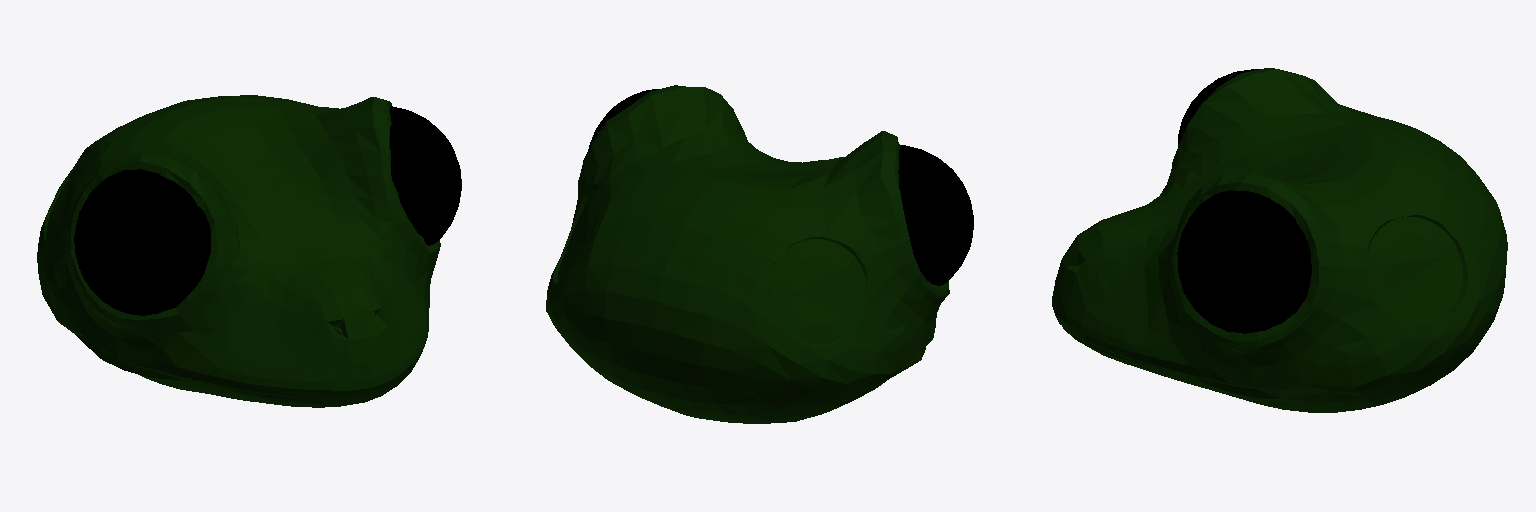
File: PlayerHead.obj
3 renders of one model, left to right at view 1: azimuth 30°, elevation 25°; view 2: azimuth 150°, elevation 25°; view 3: azimuth 270°, elevation 25°, orthographic.
Parts seen in each view (by area): view 1: FrogHead.002, Sphere.018_Sphere.020, Sphere.019_Sphere.020; view 2: FrogHead.002, Sphere.018_Sphere.020; view 3: FrogHead.002, Sphere.019_Sphere.020, Sphere.018_Sphere.020.
Boxes of the visible parts, box(x1,y1,x2,y2) form: FrogHead.002: box(37, 95, 440, 407); Sphere.018_Sphere.020: box(74, 169, 210, 315); Sphere.019_Sphere.020: box(390, 106, 461, 245); FrogHead.002: box(546, 85, 949, 423); Sphere.018_Sphere.020: box(898, 145, 973, 285); FrogHead.002: box(1052, 68, 1507, 412); Sphere.019_Sphere.020: box(1177, 190, 1311, 333); Sphere.018_Sphere.020: box(1178, 69, 1258, 145).
Bounding box in the file's own units: 1.4 × 0.9733 × 1.51.